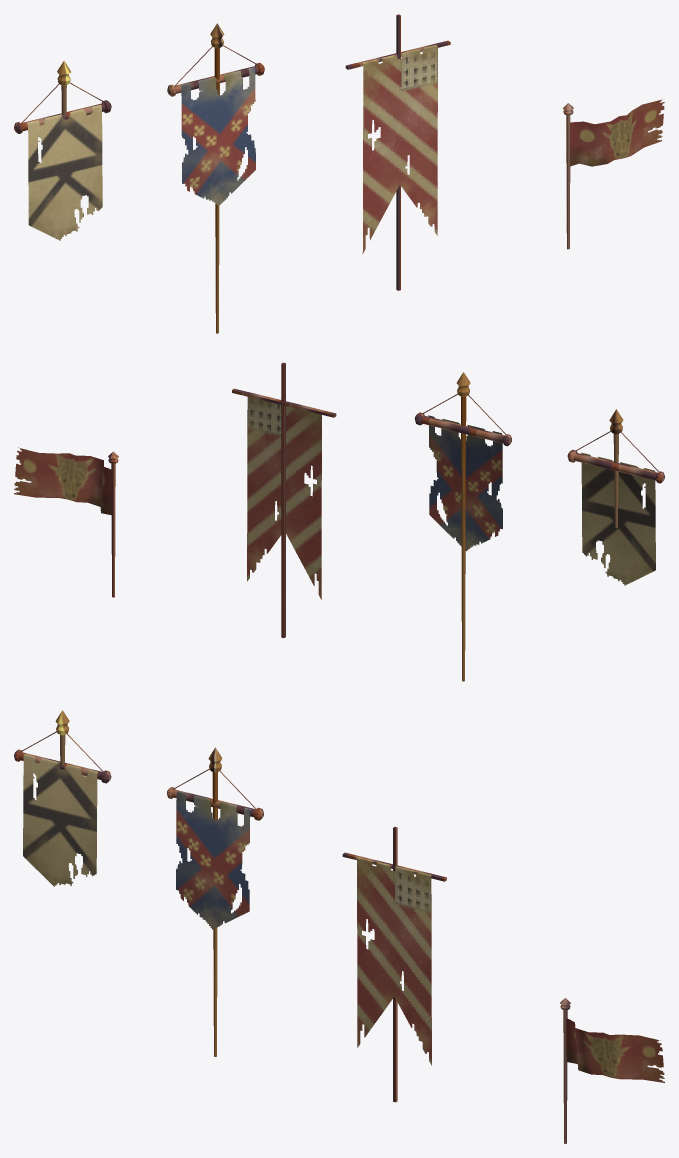
File: flags_separated.fbx
3 views of the same model, one above another, from view 1: azimuth 30°, elevation 25°; view 2: azimuth 150°, elevation 25°; view 3: azimuth 330°, elevation 25° (orthographic).
Visible parts, largest first — view 1: Object003, Object001, Object002, Object004, flag_002, flag_003, flag_001, flag_004; view 2: Object003, Object001, Object002, Object004, flag_002, flag_003, flag_001, flag_004; view 3: Object003, Object001, Object002, Object004, flag_002, flag_003, flag_001, flag_004.
Part boxes in pixels (left/top/right/bottom): Object003: left=362, top=45, right=437, bottom=253; Object001: left=27, top=104, right=102, bottom=240; Object002: left=180, top=67, right=255, bottom=205; Object004: left=570, top=99, right=664, bottom=166; flag_002: left=167, top=23, right=264, bottom=333; flag_003: left=345, top=14, right=450, bottom=290; flag_001: left=14, top=60, right=111, bottom=133; flag_004: left=563, top=103, right=573, bottom=249; Object003: left=247, top=397, right=321, bottom=599; Object001: left=581, top=452, right=655, bottom=585; Object002: left=428, top=415, right=502, bottom=551; Object004: left=14, top=447, right=115, bottom=515; flag_002: left=415, top=372, right=511, bottom=681; flag_003: left=232, top=362, right=336, bottom=637; flag_001: left=567, top=409, right=664, bottom=527; flag_004: left=108, top=451, right=118, bottom=597; Object003: left=357, top=857, right=431, bottom=1065; Object001: left=23, top=754, right=97, bottom=886; Object002: left=176, top=791, right=250, bottom=929; Object004: left=566, top=1018, right=664, bottom=1082; flag_002: left=167, top=747, right=263, bottom=1056; flag_003: left=342, top=826, right=446, bottom=1102; flag_001: left=14, top=710, right=111, bottom=783; flag_004: left=560, top=998, right=570, bottom=1143.
Size of the model in its own units: 270 by 124 by 9.68.
Materials: 3 (3 with a texture image).
